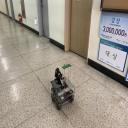cart: (50, 78, 75, 110)
